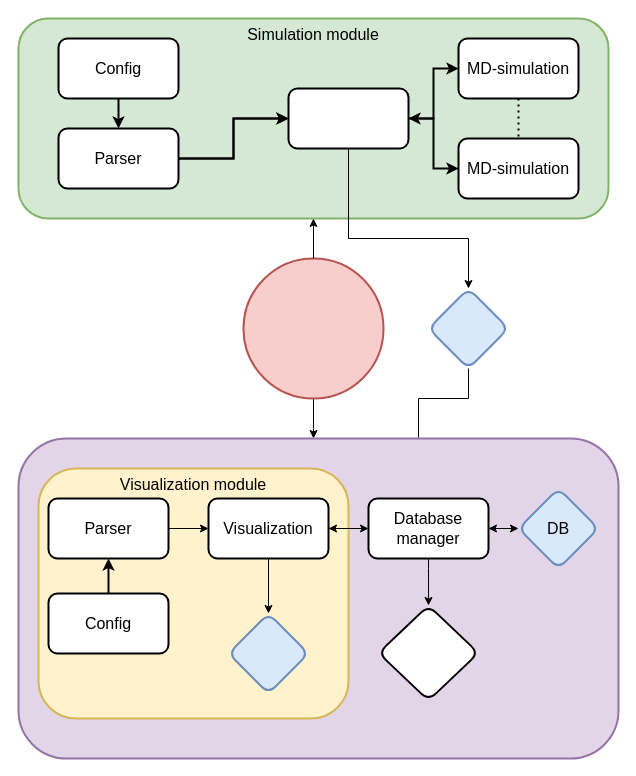
Image size: 636x776. Some labels were removed from this diagram. The shapes that lost their labels are listed below. From the top down, each one's box as (x1, y1, x2, y2) in pixels, then its label:
(287, 87, 409, 149): Run manager
(242, 257, 384, 399): MDSE CLI
(427, 287, 509, 369): JSONL
(17, 437, 619, 759): Data processing module
(227, 612, 309, 694): Graphs
(377, 604, 479, 701): Filtered Data
